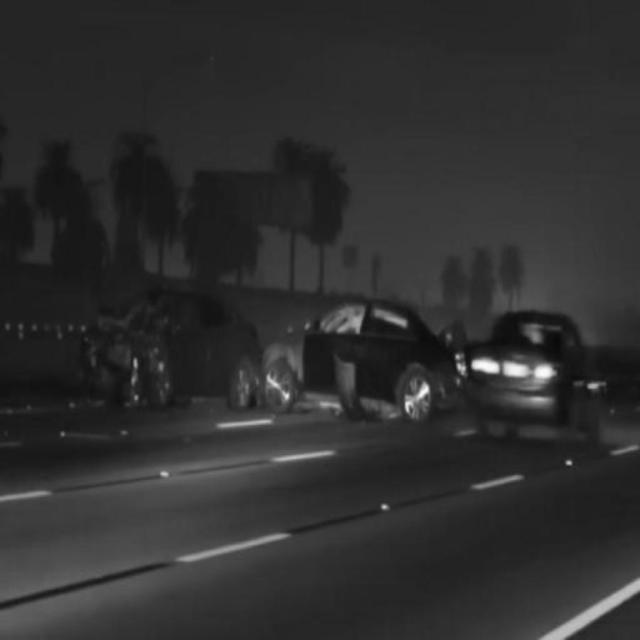accident: (97, 278, 461, 430)
vehicle: (470, 307, 601, 435)
